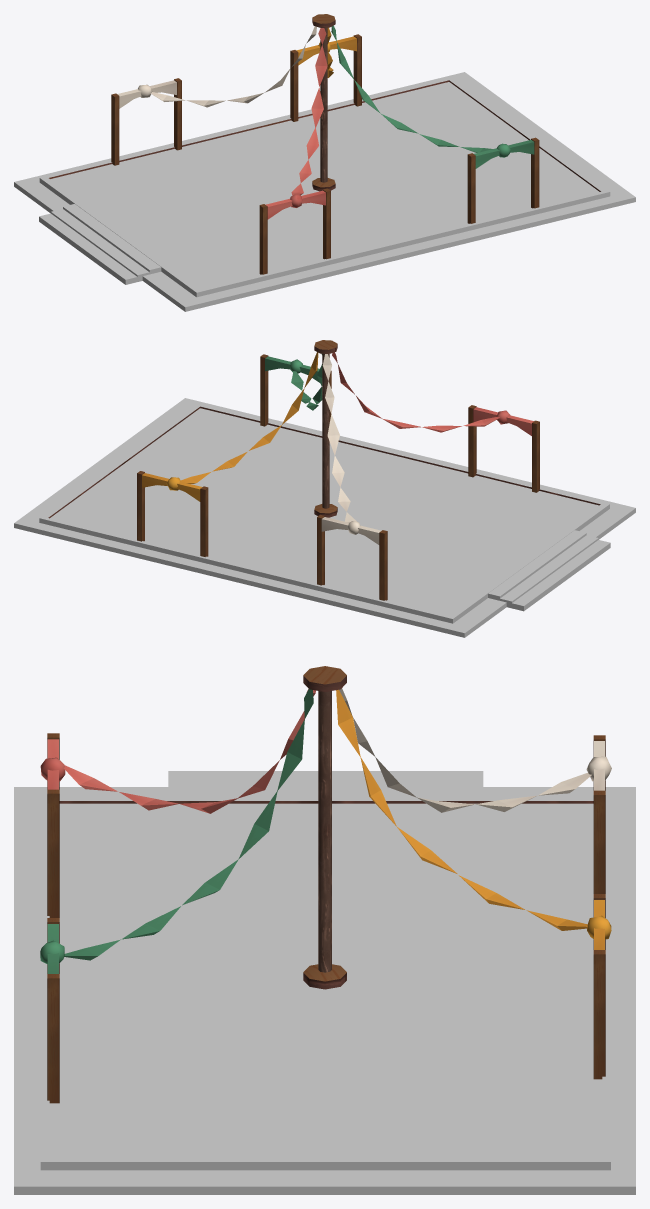
File: CenterPlatform_Art.fbx
3 views of the same model, one above another, from view 1: azimuth 30°, elevation 25°; view 2: azimuth 150°, elevation 25°; view 3: azimuth 270°, elevation 25° (orthographic). The views are drawn at different scales.
Visible parts, largest first — view 1: CentralPlatform_Art; view 2: CentralPlatform_Art; view 3: CentralPlatform_Art.
Boxes of the visible parts, box(x1,y1,x2,y2) form: CentralPlatform_Art: box(14, 14, 635, 311); CentralPlatform_Art: box(14, 340, 635, 637); CentralPlatform_Art: box(14, 666, 635, 1194).
Bounding box in the file's own units: 1943 × 697 × 1231.
